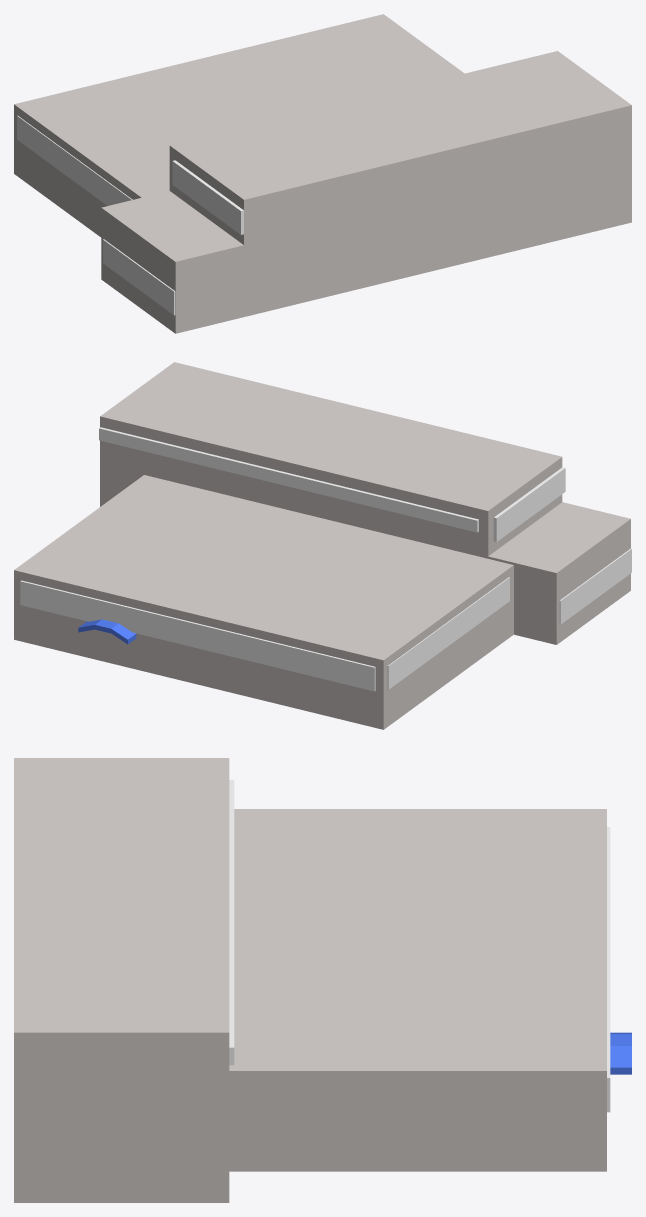
File: kentiku.glb
The picture shows the model from 3 angles, top to bottom: view 1: azimuth 30°, elevation 25°; view 2: azimuth 150°, elevation 25°; view 3: azimuth 270°, elevation 25°; orthographic projection. The views are drawn at different scales.
Visible parts, largest first — view 1: 立方体.021, 立方体.003, 立方体.004, 立方体.011, 立方体.034; view 2: 立方体.003, 立方体.021, 立方体.008, 立方体.017, 立方体.004, 立方体.011, 立方体.034, 体育館・昇降口上の屋根.001; view 3: 立方体.003, 立方体.021, 立方体.017, 立方体.008, 体育館・昇降口上の屋根.001.
Part boxes in pixels (x1,y1,x2,y2): 立方体.021: (101, 51, 631, 333); 立方体.003: (14, 14, 464, 237); 立方体.004: (17, 115, 132, 205); 立方体.011: (172, 160, 243, 234); 立方体.034: (103, 239, 175, 315); 立方体.003: (14, 475, 513, 729); 立方体.021: (100, 362, 630, 644); 立方体.008: (20, 580, 375, 691); 立方体.017: (99, 427, 478, 532); 立方体.004: (387, 577, 509, 689); 立方体.011: (493, 467, 565, 541); 立方体.034: (559, 548, 631, 624); 体育館・昇降口上の屋根.001: (78, 619, 136, 644); 立方体.003: (229, 809, 606, 1171); 立方体.021: (14, 758, 229, 1202); 立方体.017: (229, 780, 234, 1065); 立方体.008: (607, 827, 610, 1112); 体育館・昇降口上の屋根.001: (610, 1032, 631, 1074).
Size of the model in its own units: 10.92 by 2.67 by 8.8.
1 material, 1 textured.
